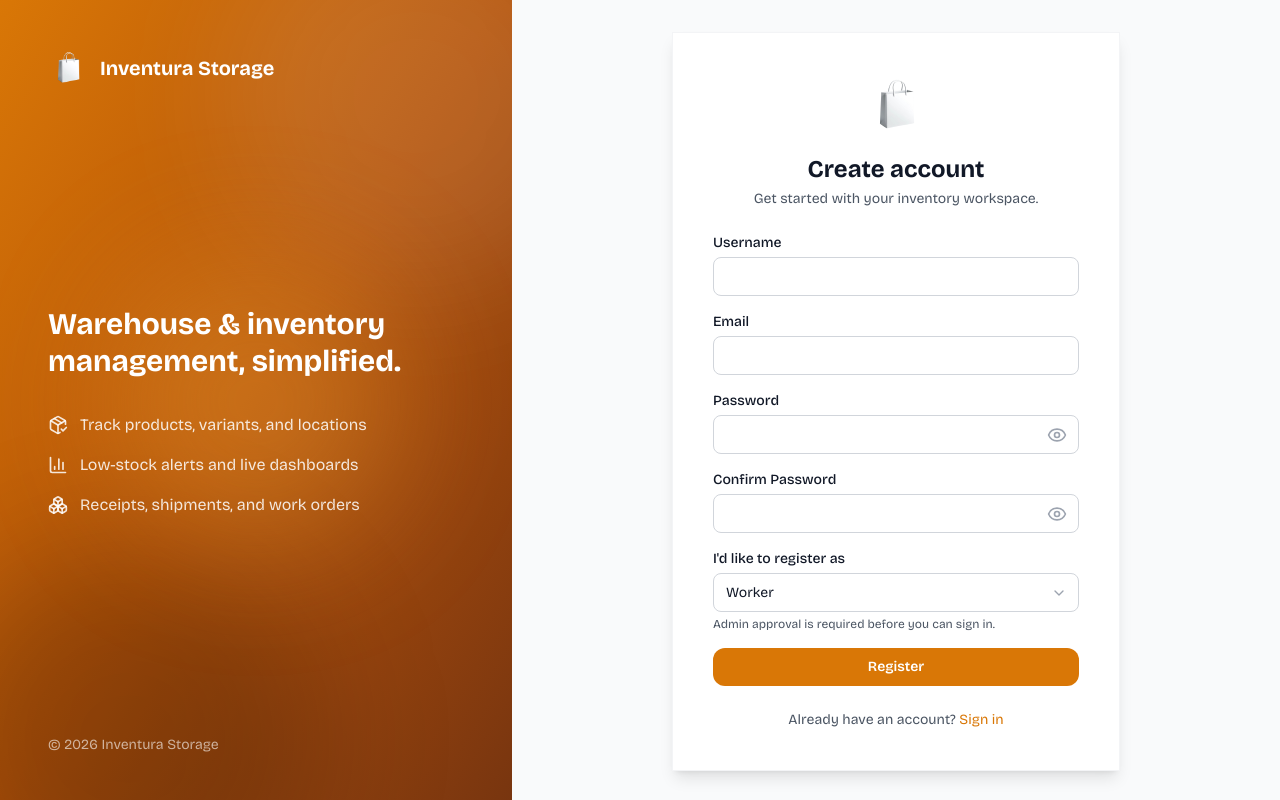
Register Page › shows inline error when passwords do not match
Type "newuser" into the field labelled "Username" at x=896, y=276, box [713,257,1079,296]
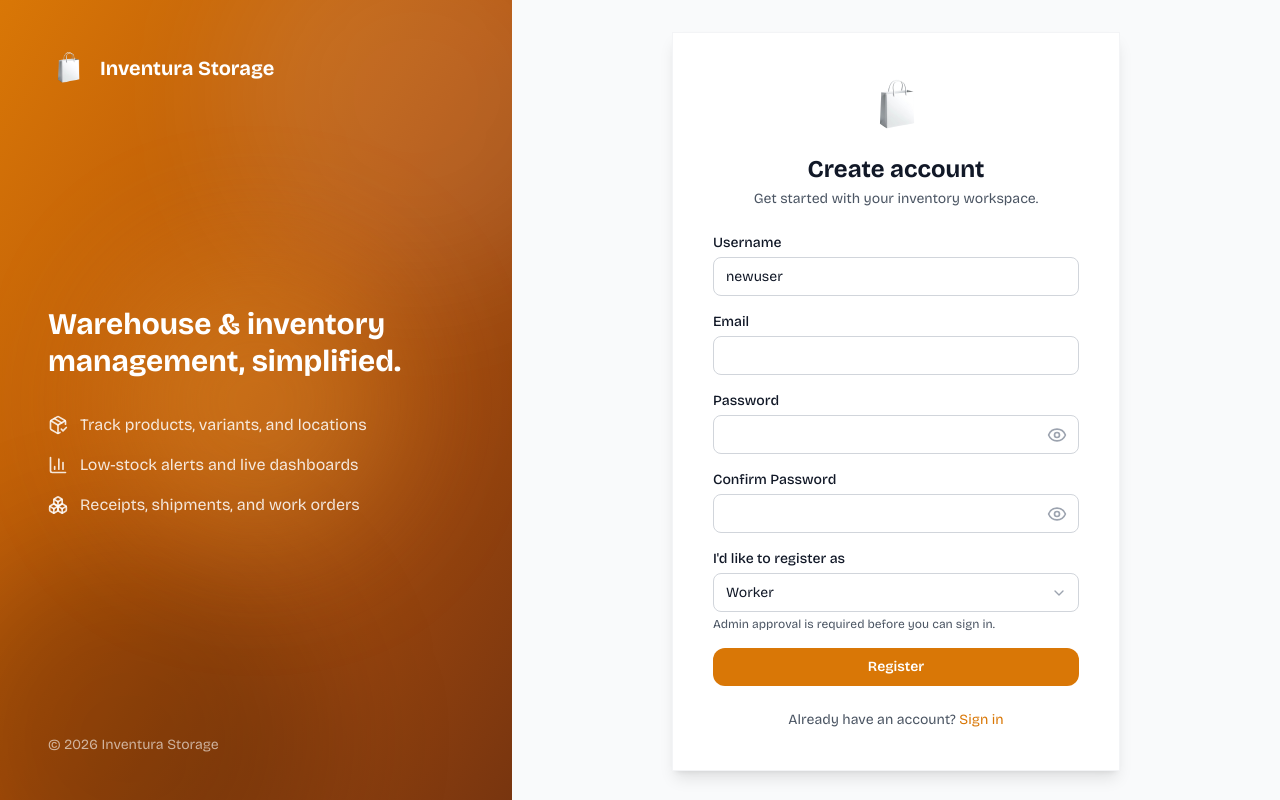
Type "new@example.com" into the field labelled "Email" at x=896, y=356, box [713,336,1079,375]
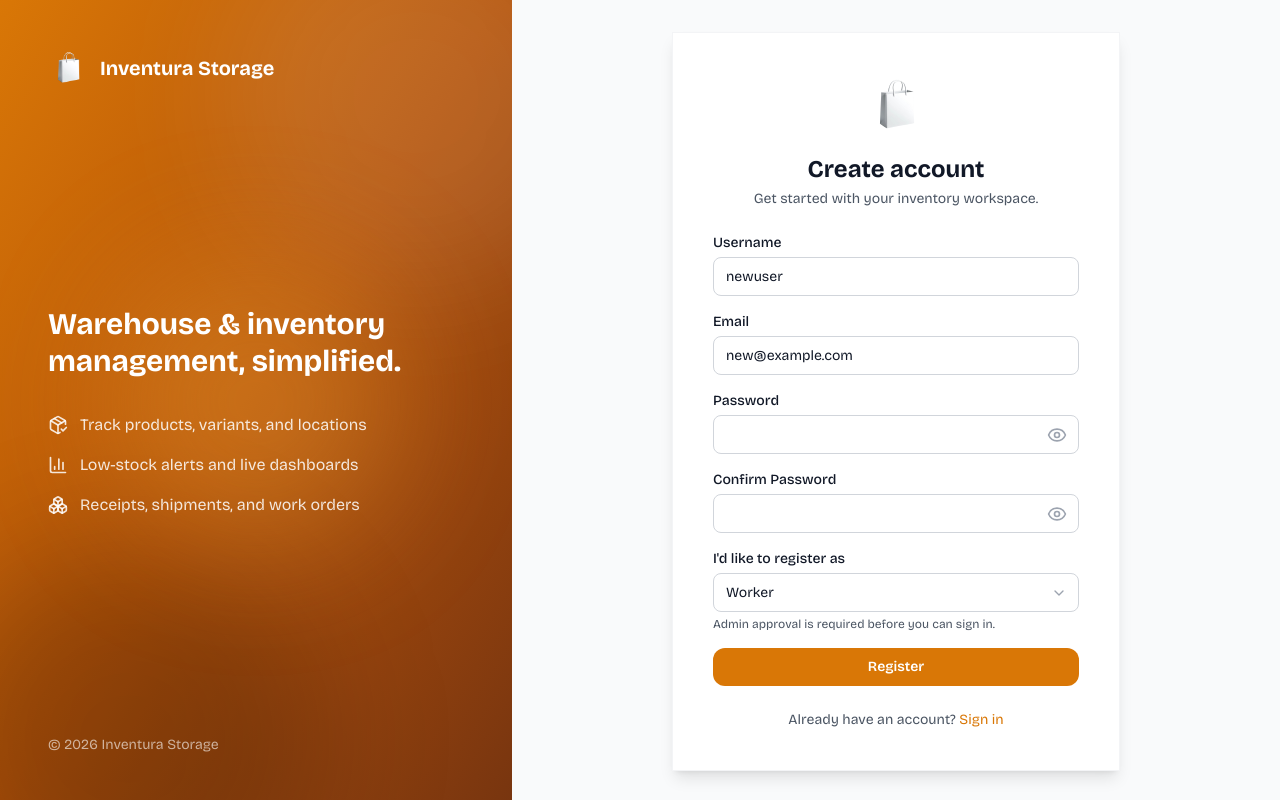
Type "secret1" into the password field labelled "Password" at x=896, y=434, box [713,415,1079,454]
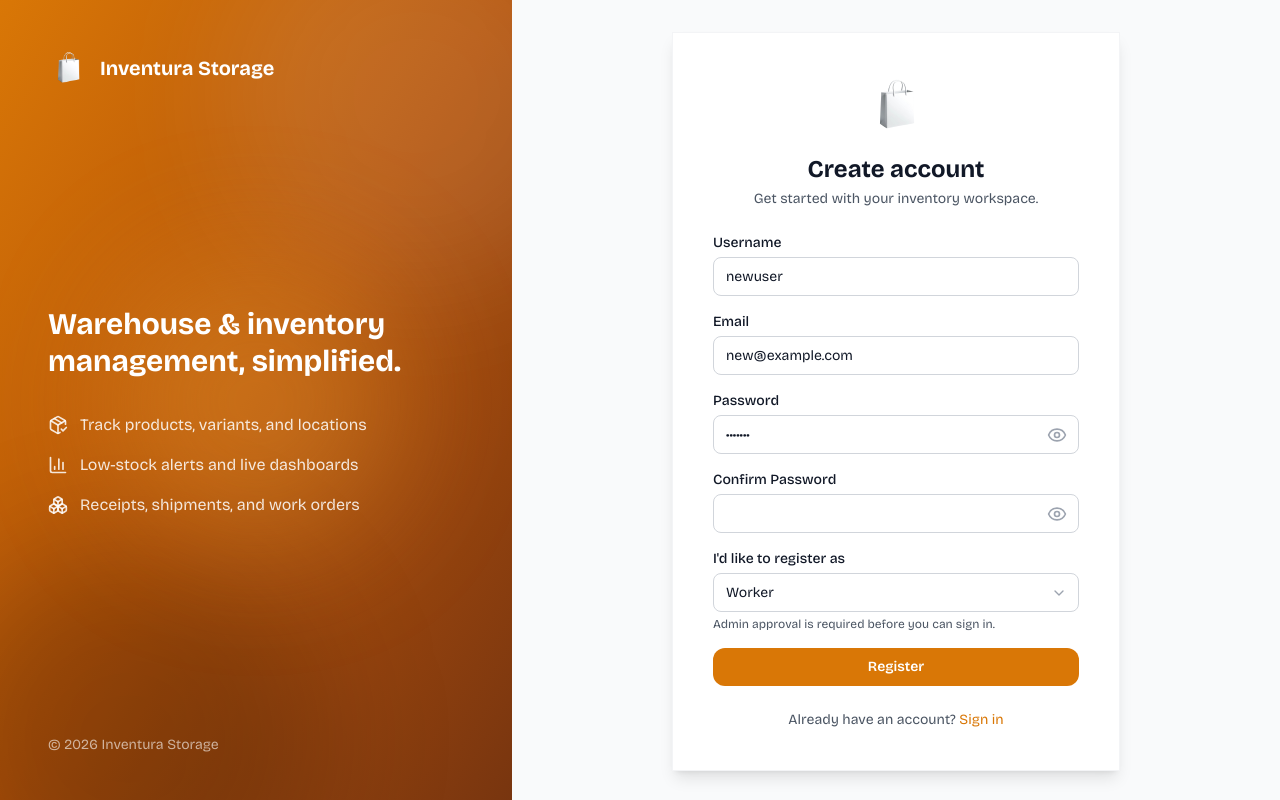
Type "secret2" into the password field labelled "Confirm Password" at x=896, y=514, box [713,494,1079,533]
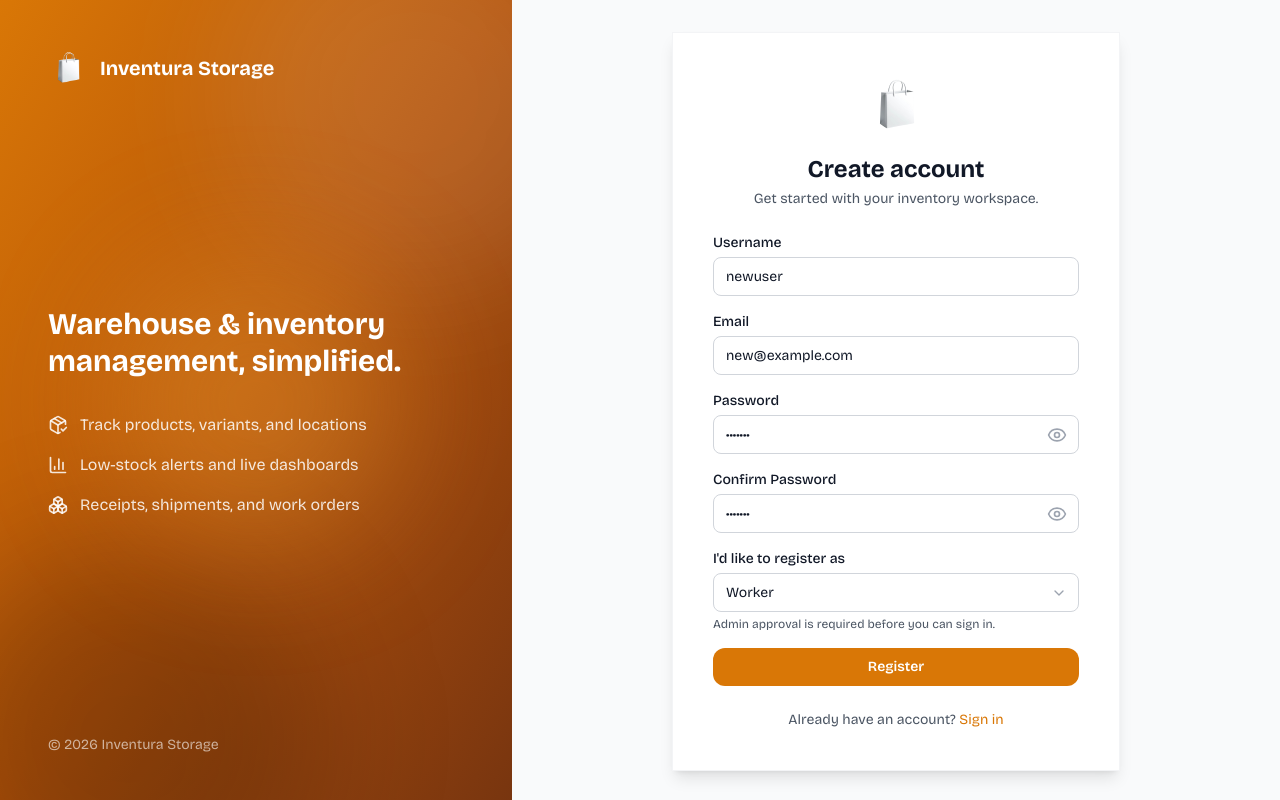
Click the button "Register" at x=896, y=667, box [713,648,1079,686]
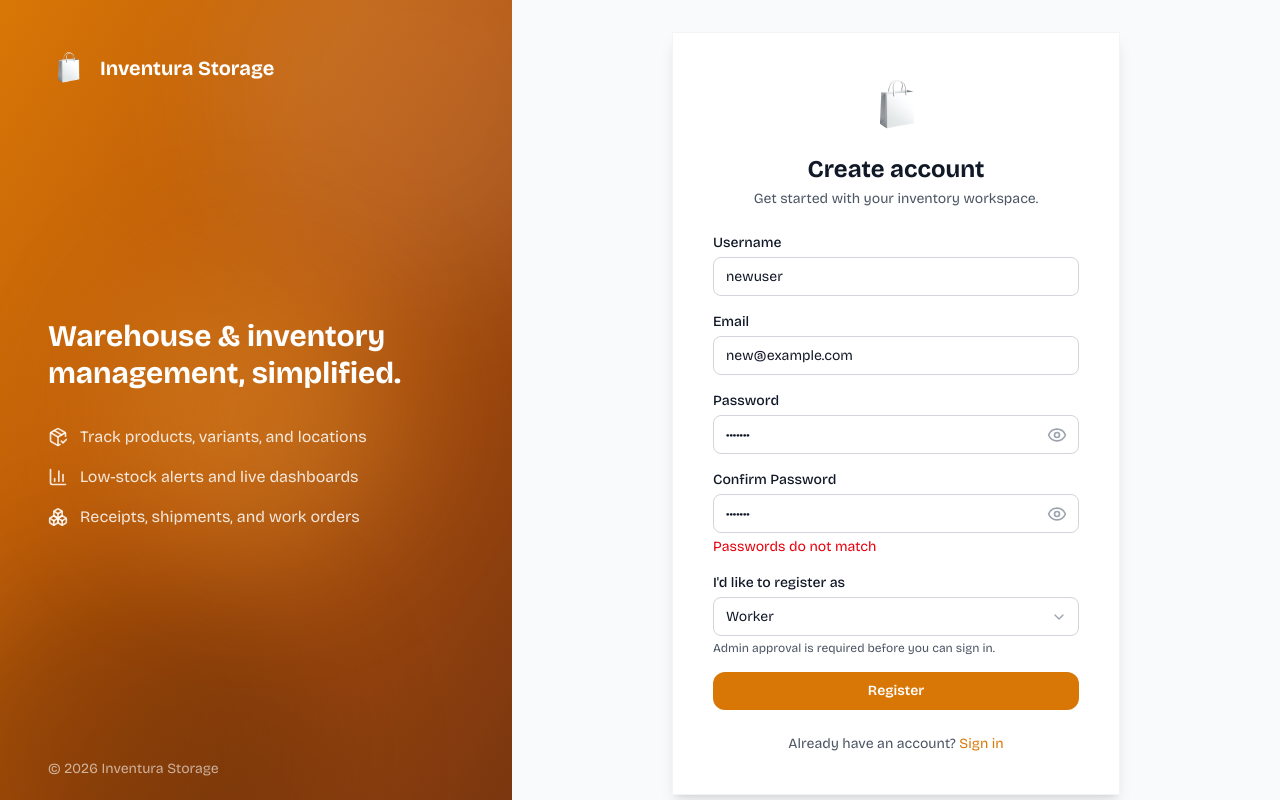
Expected: the text "Passwords do not match" is shown, [713,538,876,555]
